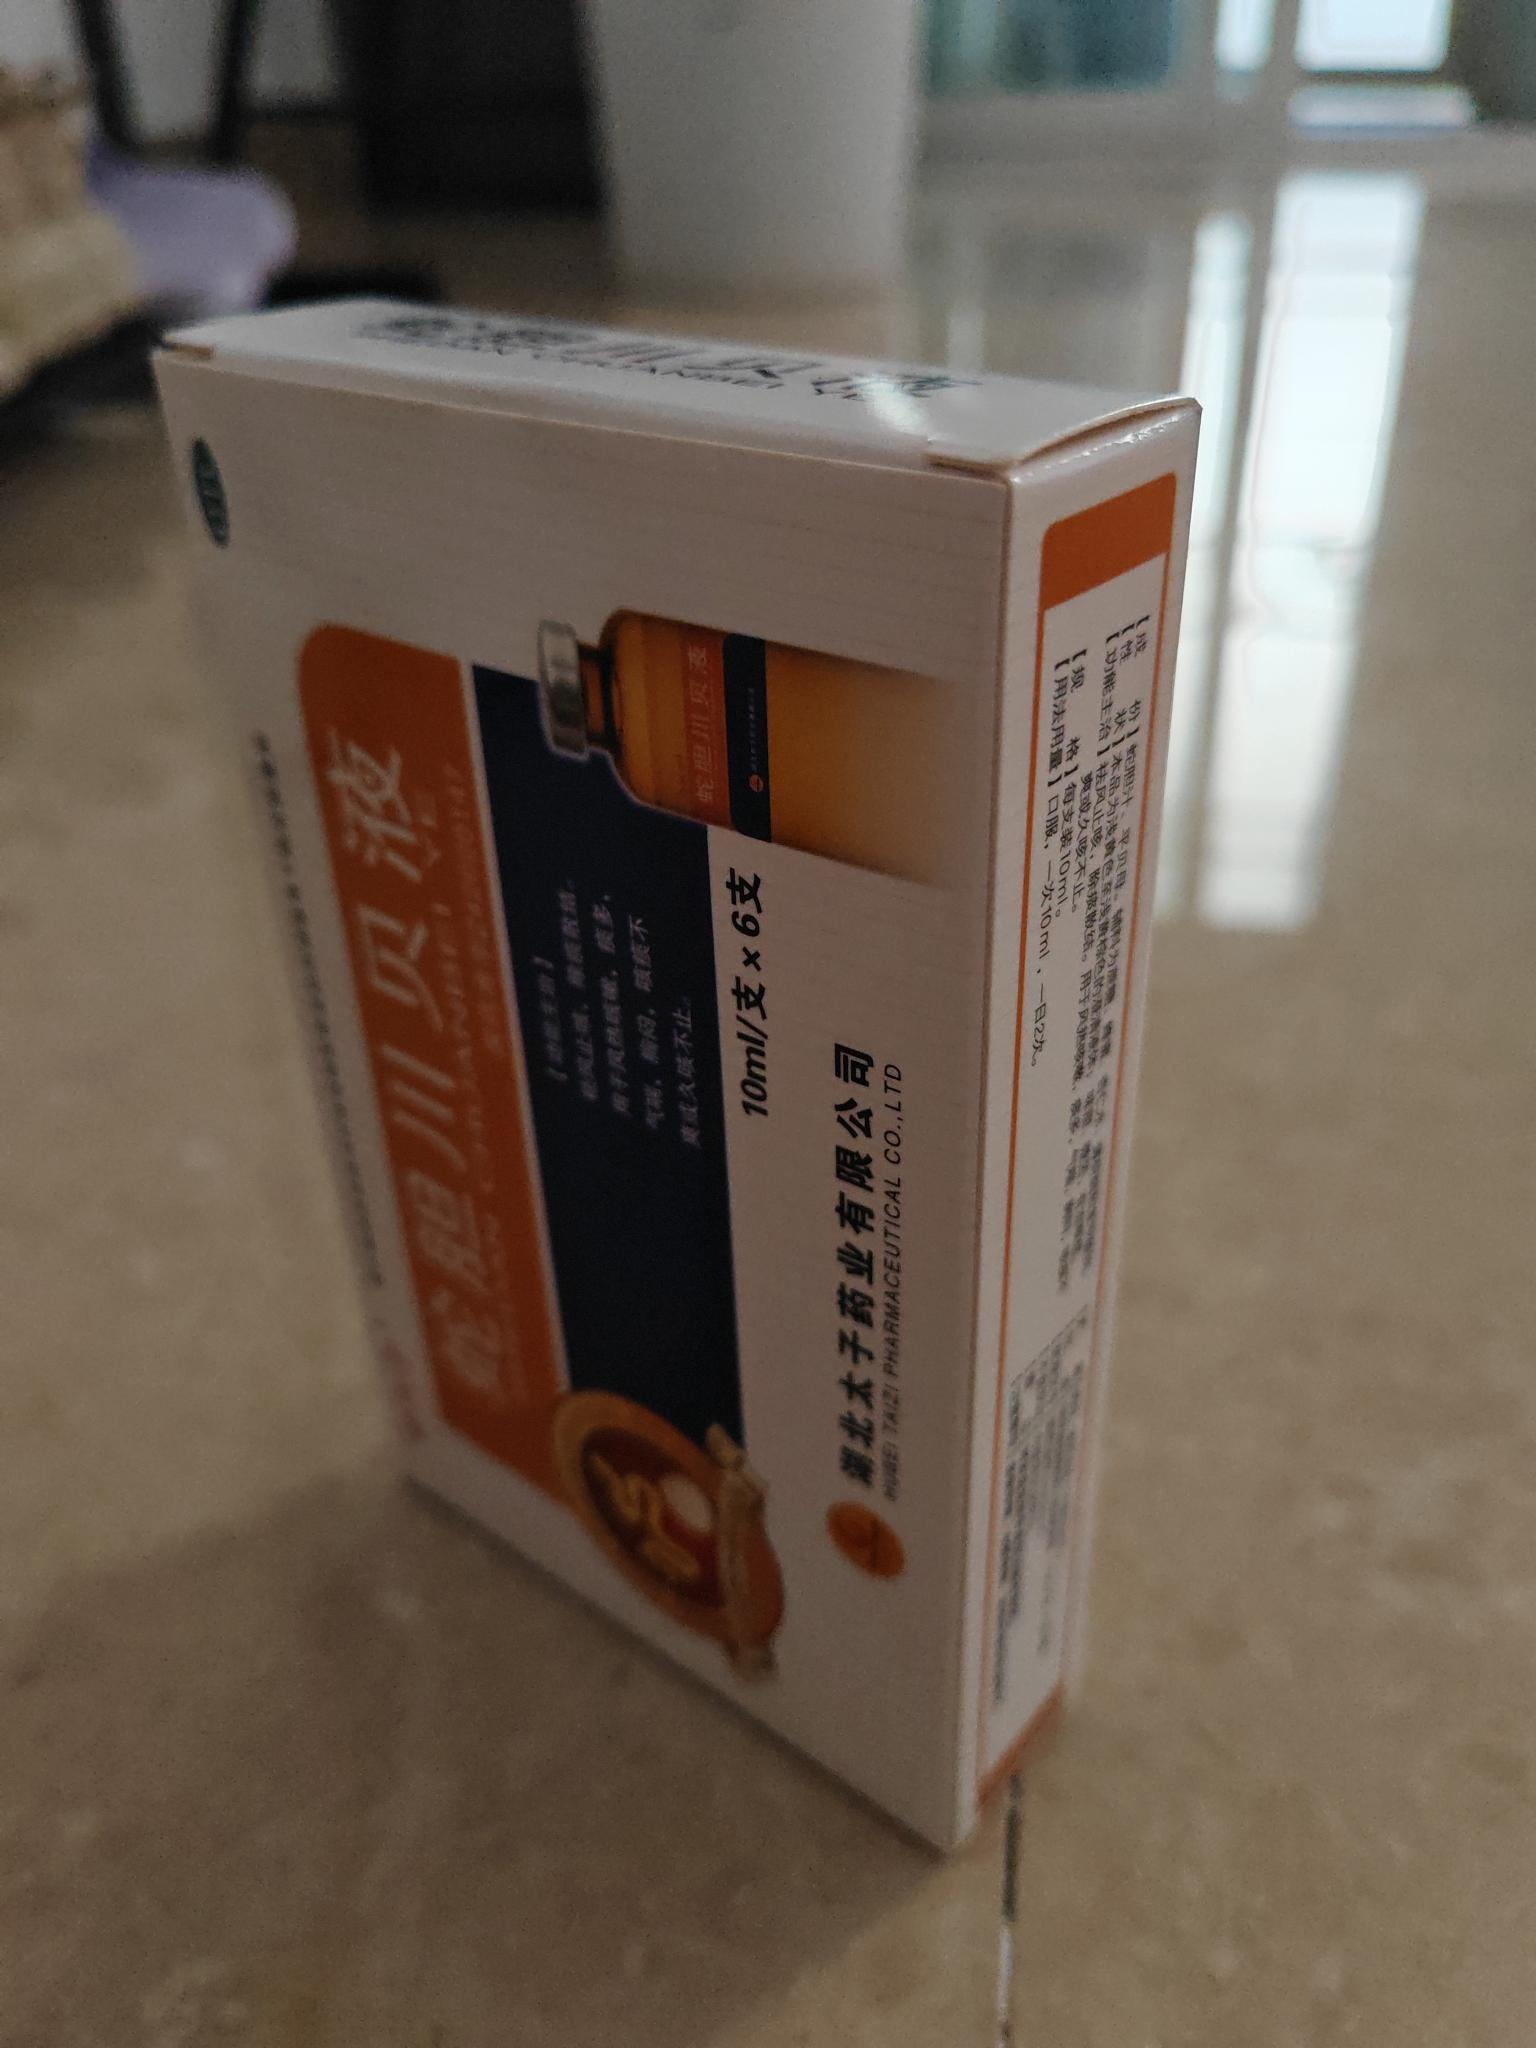Medicine5: (136, 268, 1217, 1882)
